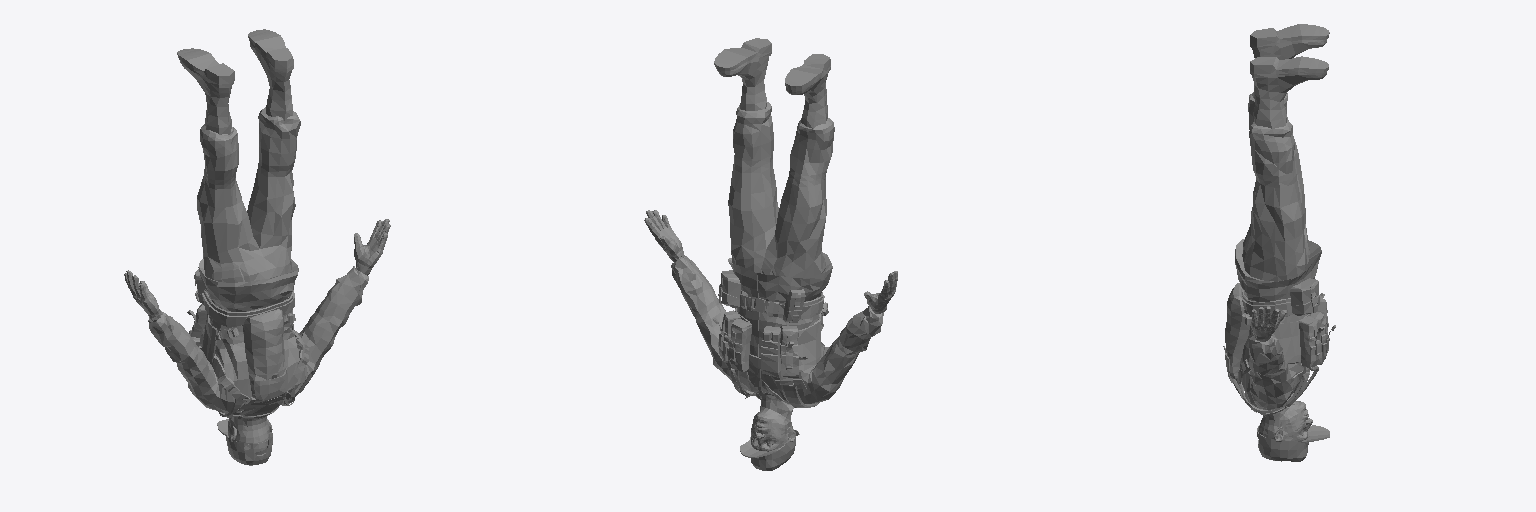
The model's file is Soldier.obj.
3 renders of one model, left to right at view 1: azimuth 30°, elevation 25°; view 2: azimuth 150°, elevation 25°; view 3: azimuth 270°, elevation 25°, orthographic.
Parts seen in each view (by area): view 1: Object01; view 2: Object01; view 3: Object01.
Boxes of the visible parts, <box> form: Object01: <box>124,29,390,465</box>; Object01: <box>644,38,897,470</box>; Object01: <box>1223,24,1335,461</box>.
Bounding box in the file's own units: 1.21 × 1.86 × 0.4652.